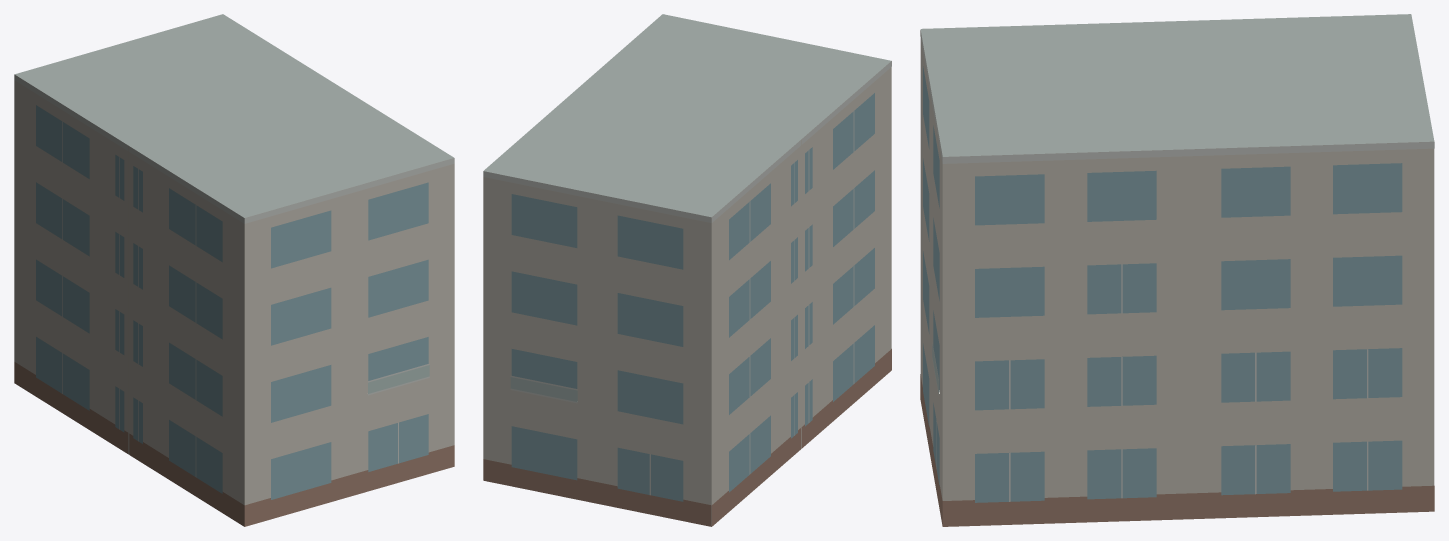
File: survey-upis-32994739.glb
The picture shows the model from 3 angles, left to right: view 1: azimuth 30°, elevation 25°; view 2: azimuth 150°, elevation 25°; view 3: azimuth 270°, elevation 25°; orthographic projection. The views are drawn at different scales.
Visible parts, largest first — view 1: survey-upis-32994739.tmp; view 2: survey-upis-32994739.tmp; view 3: survey-upis-32994739.tmp.
Part boxes in pixels (x1,y1,x2,y2): survey-upis-32994739.tmp: (14,14,454,526); survey-upis-32994739.tmp: (483,14,891,526); survey-upis-32994739.tmp: (920,14,1434,526).
Size of the model in its own units: 10.74 by 12.95 by 16.32.
